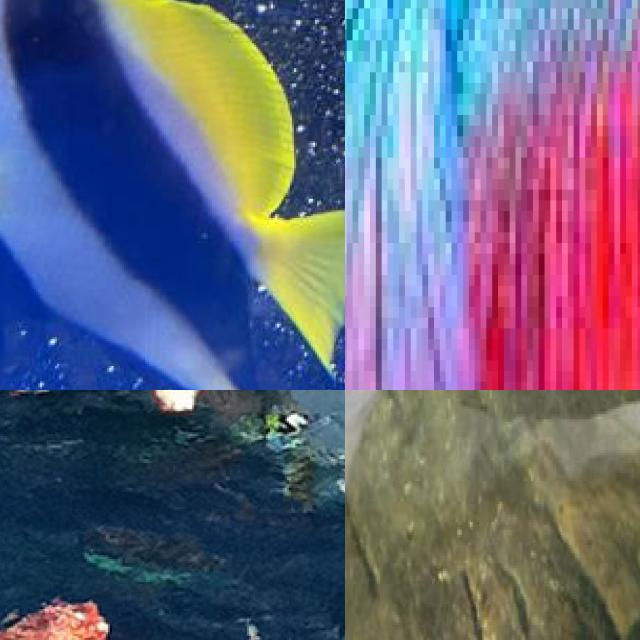fish: (0, 0, 345, 390), (345, 0, 640, 390), (345, 390, 587, 640)
